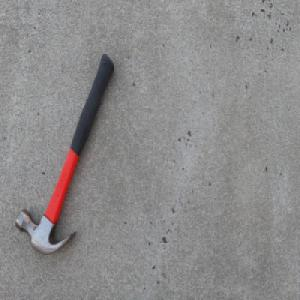Hammer: (15, 52, 116, 256)
